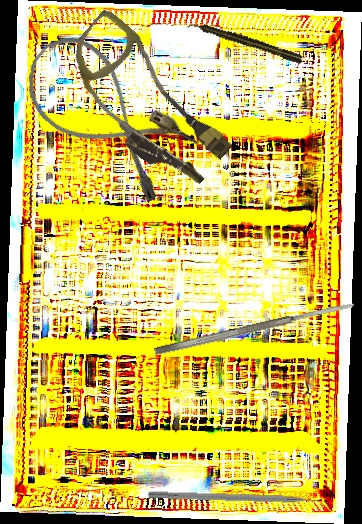Cannula: (45, 7, 249, 198), (8, 22, 204, 208)
Chopper: (147, 490, 332, 515)
Handpiece: (186, 17, 305, 66)
Spatula Surgical: (153, 300, 356, 357)
